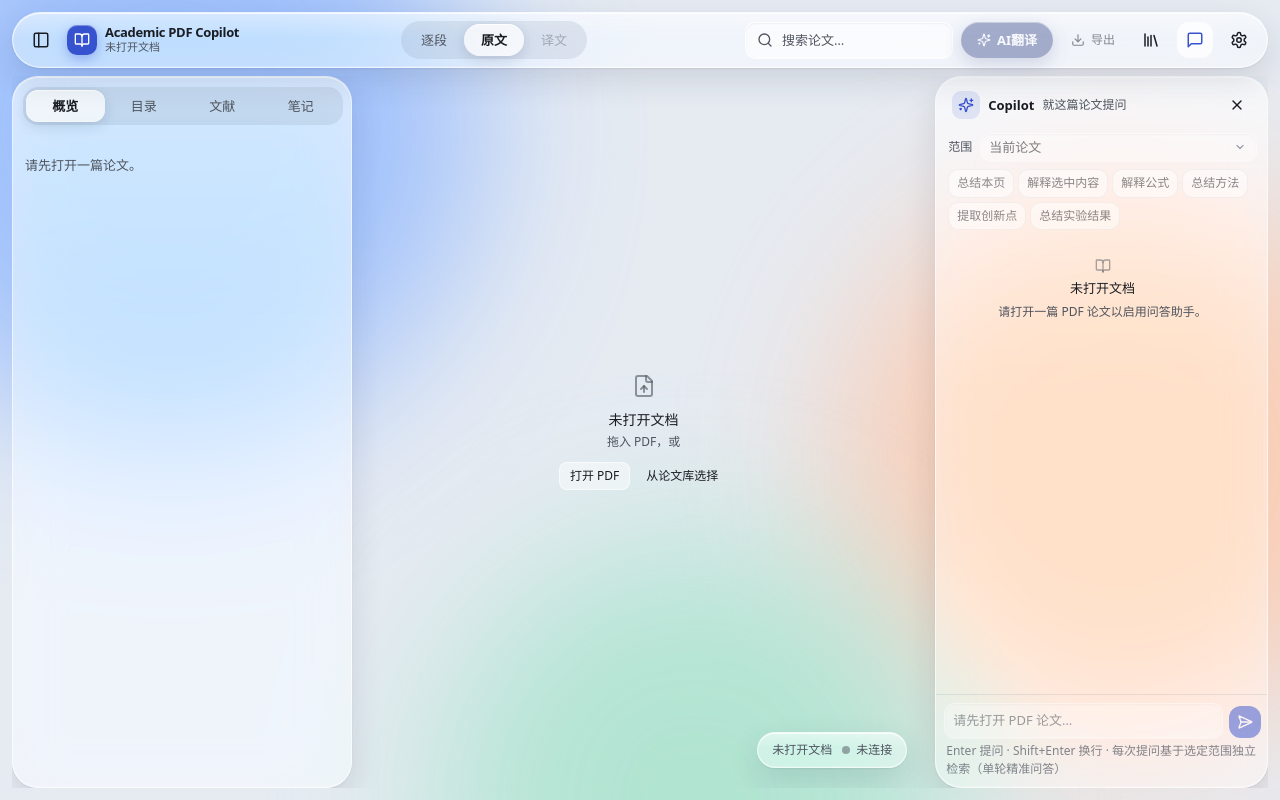
Test: DS-FE-004 · the screen itself › lists the services, and says so when there are none (AC-P0-04)
Click the button with test id "settings-open" at (1239, 40), box [1221,22,1257,58]
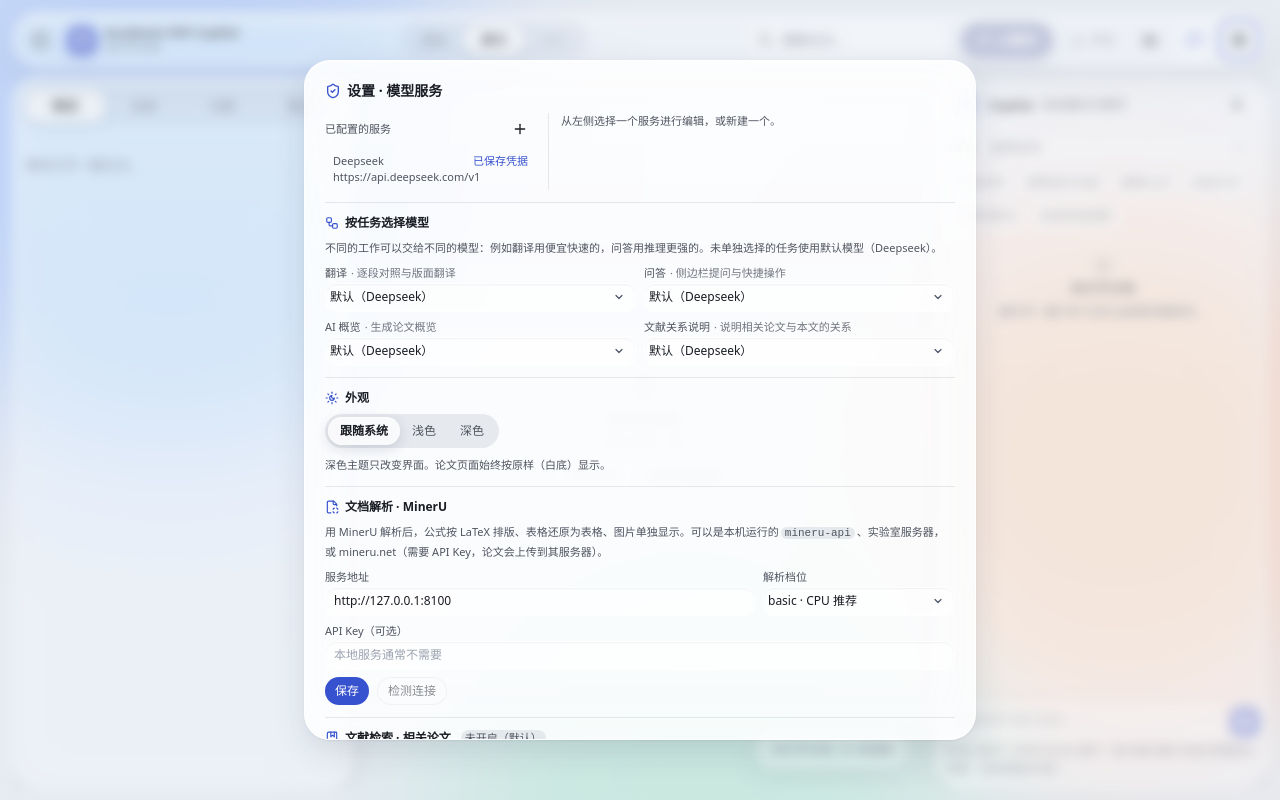
Expected: the button with test id "settings-profile-prof_1" shows "Deepseek", [325,149,536,189]
Expected: the button with test id "settings-profile-prof_1" shows "https://api.deepseek.com/v1", [325,149,536,189]
